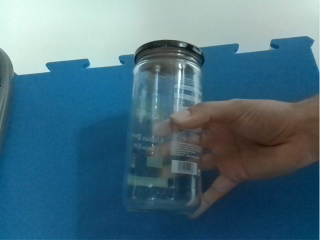pote cristal: (126, 39, 204, 215)
